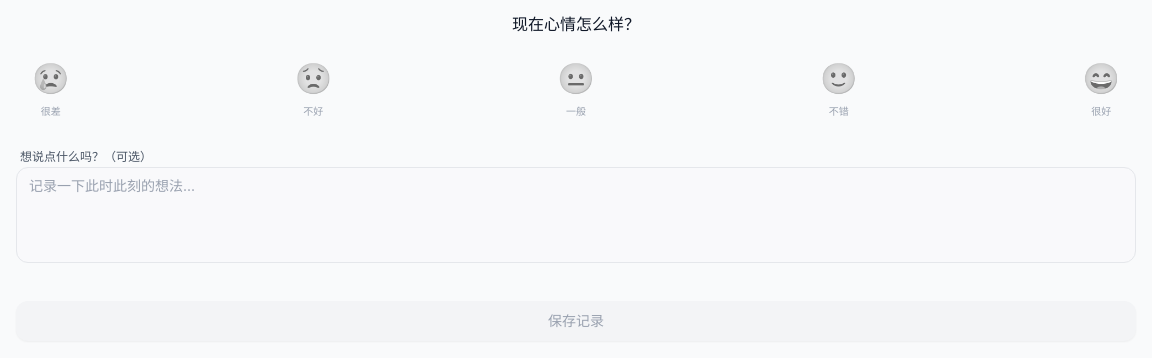
MoodTracker › 保存失败不打断完成展示（乐观 UI）
Click the text "一般".
click(576, 112)  # box [566,104,586,119]
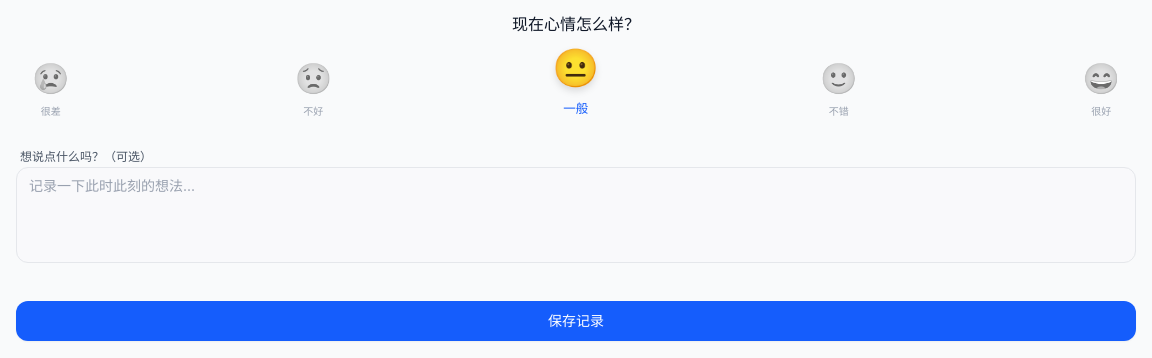
Click the button "保存记录".
click(576, 321)  # box [16,301,1136,341]
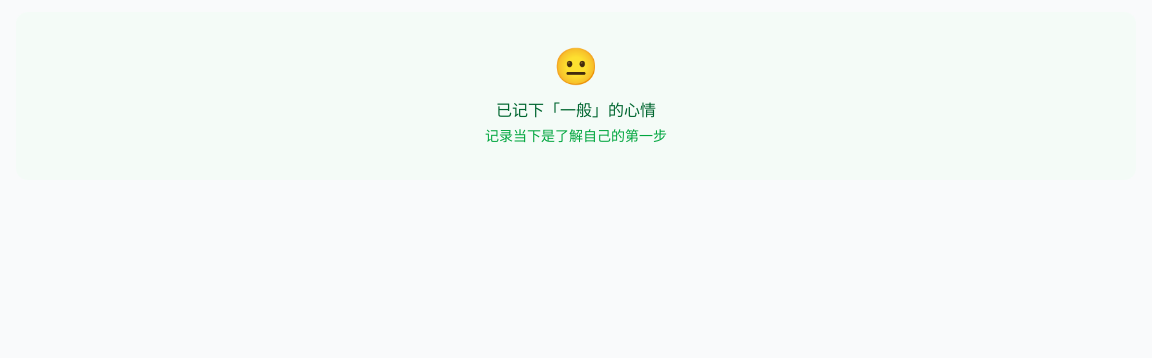
Expected: the text "已记下「一般」的心情" is shown, [496,98,656,122]
